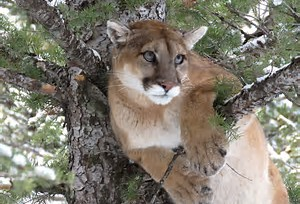Mountain Lion: (106, 18, 222, 105)
